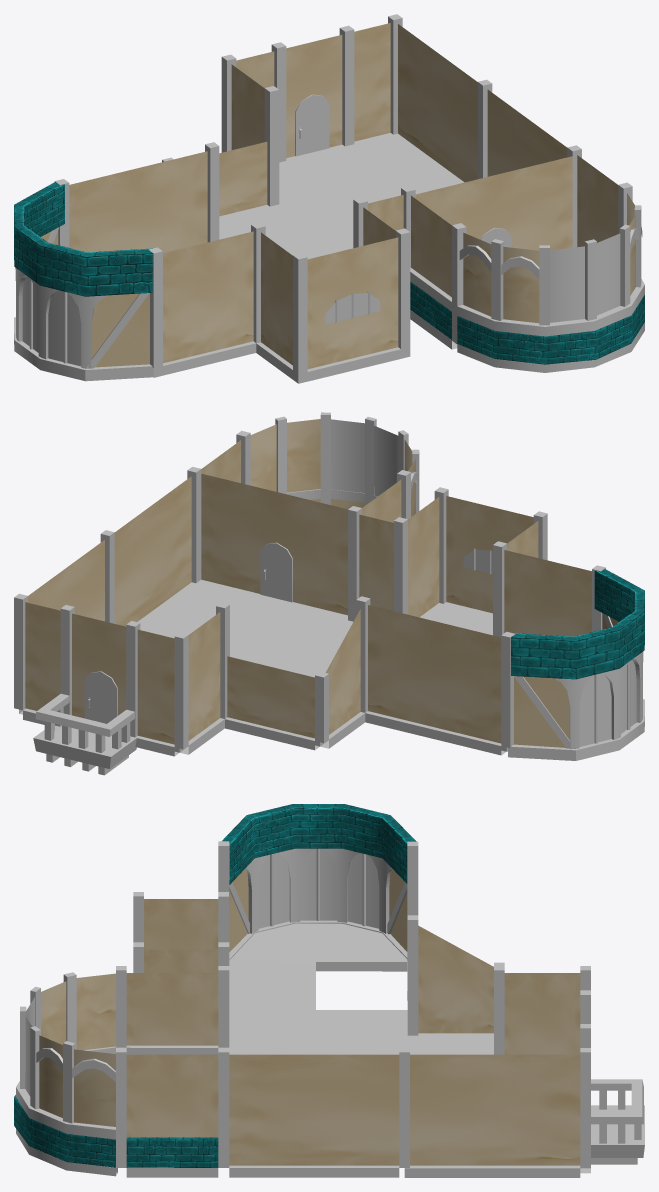
Rendered from second_floor.fbx.
The picture shows the model from 3 angles, top to bottom: view 1: azimuth 30°, elevation 25°; view 2: azimuth 150°, elevation 25°; view 3: azimuth 270°, elevation 25°; orthographic projection. The views are drawn at different scales.
Visible parts, largest first — view 1: wall_second (×15), wood_struct_02 (×17), second_ground, door, window_03; view 2: wall_second (×16), wood_struct_02 (×20), second_ground, terrace, door (×2), window_03; view 3: wall_second (×10), second_ground, wood_struct_02 (×17), terrace.
Boxes of the visible parts, x1,y1,x2,y2 form: wall_second (×15): (14, 23, 644, 368); wood_struct_02 (×17): (14, 14, 644, 383); second_ground: (219, 133, 464, 259); door: (295, 94, 329, 156); window_03: (325, 291, 380, 324); wall_second (×16): (25, 412, 644, 749); wood_struct_02 (×20): (14, 430, 644, 760); second_ground: (137, 579, 492, 677); terrace: (33, 693, 138, 775); door (×2): (84, 542, 292, 723); window_03: (463, 548, 492, 574); wall_second (×10): (14, 804, 590, 1167); second_ground: (229, 923, 493, 1054); wood_struct_02 (×17): (16, 841, 590, 1177); terrace: (591, 1079, 644, 1164).
Bounding box in the file's own units: 801 × 859 × 211.
